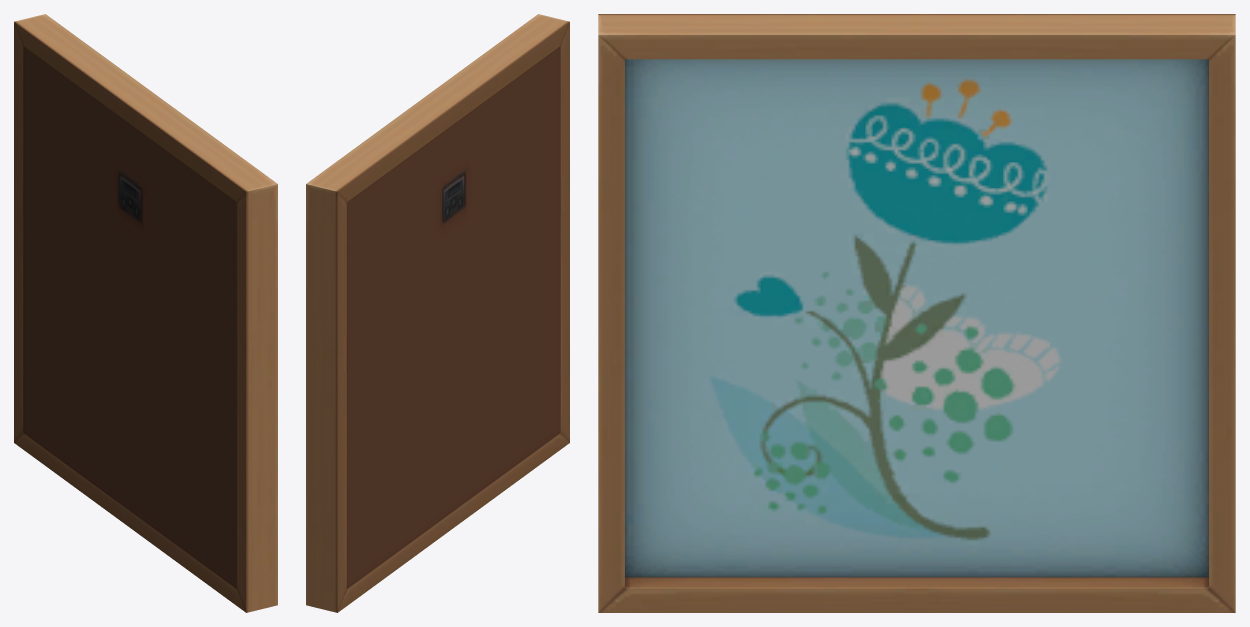
File: SimpleandCleanArt.fbx
3 renders of one model, left to right at view 1: azimuth 30°, elevation 25°; view 2: azimuth 150°, elevation 25°; view 3: azimuth 270°, elevation 25°, orthographic. The views are drawn at different scales.
Visible parts, largest first — view 1: TinyLiving_SimpleandCleanArt; view 2: TinyLiving_SimpleandCleanArt; view 3: TinyLiving_SimpleandCleanArt.
Part boxes in pixels (box(x1,y1,x2,y2)): TinyLiving_SimpleandCleanArt: box(14, 14, 277, 612); TinyLiving_SimpleandCleanArt: box(306, 14, 569, 612); TinyLiving_SimpleandCleanArt: box(598, 14, 1235, 612).
Bounding box in the file's own units: 6.63 × 84.45 × 84.44.
